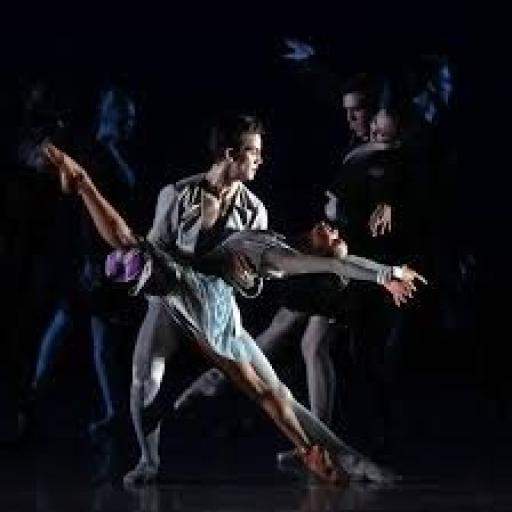dancing: (36, 116, 430, 494)
